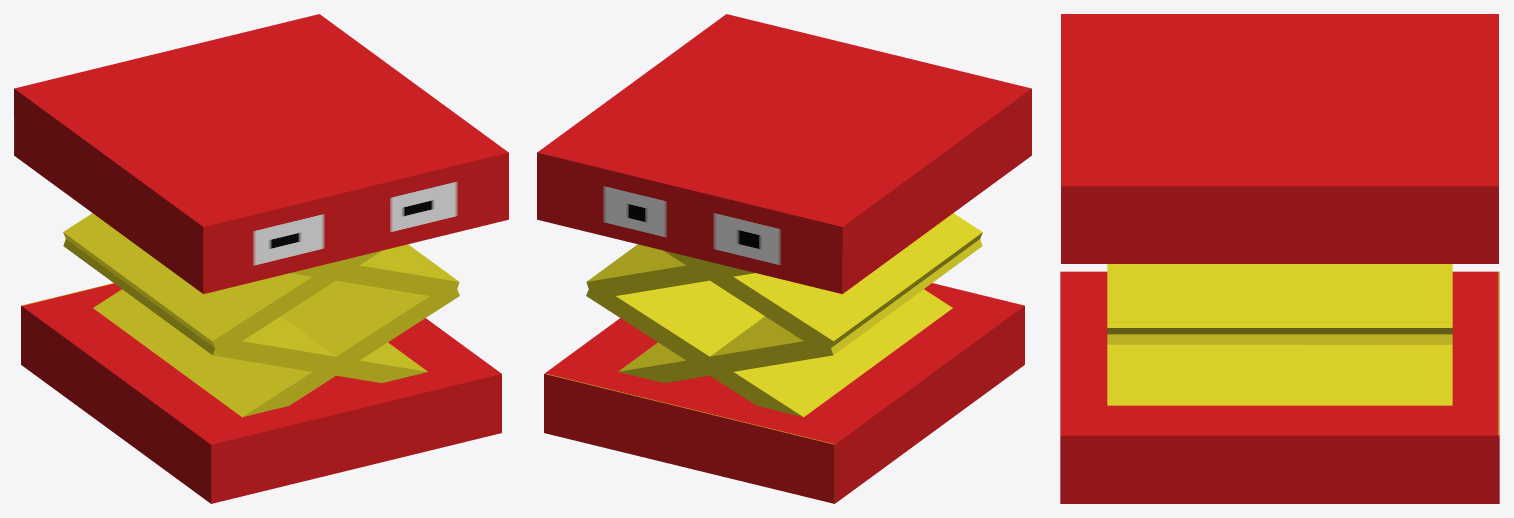
The model's file is Spring.obj.
The picture shows the model from 3 angles, left to right: view 1: azimuth 30°, elevation 25°; view 2: azimuth 150°, elevation 25°; view 3: azimuth 270°, elevation 25°; orthographic projection. The views are drawn at different scales.
Parts seen in each view (by area): view 1: 立方体; view 2: 立方体; view 3: 立方体.
Part boxes in pixels (box(x1,y1,x2,y2)): 立方体: box(14, 14, 508, 503); 立方体: box(537, 14, 1031, 503); 立方体: box(1060, 14, 1499, 503).
Bounding box in the file's own units: 2.36 × 2.06 × 2.55.
1 material, 1 textured.
